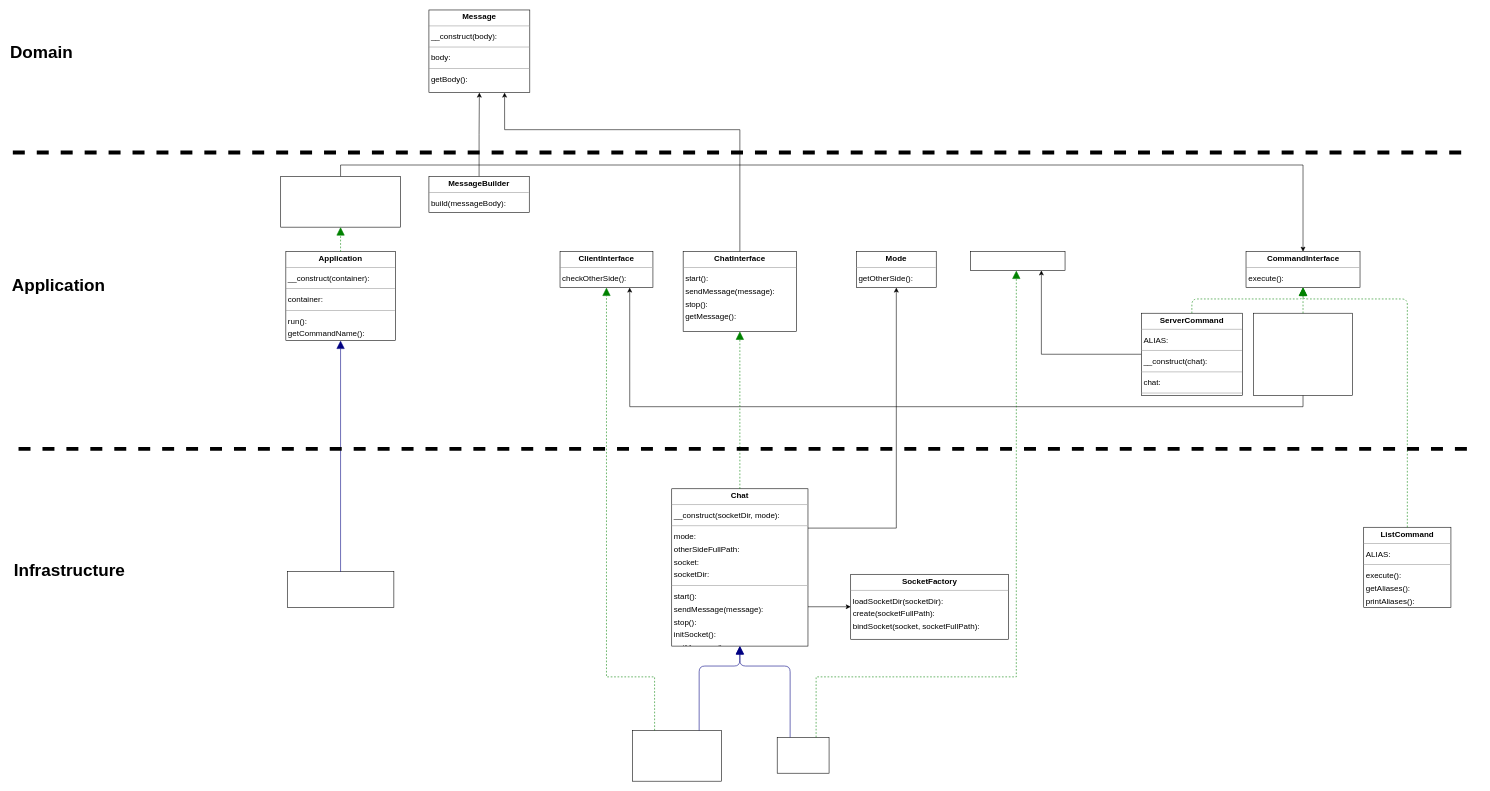
Image size: 1490x791. Some labels were removed from this diagram. Here are the shapes that lost their labels. From the top down, the centre of each, then its label:
pixel 340 201: ApplicationInterface run(): getCommand():
pixel 1017 260: ServerInterface
pixel 1302 354: ClientCommand ALIAS: __construct(chat): chat: execute():
pixel 340 589: ConsoleApp getCommandName():
pixel 676 755: Client start(): checkOtherSide():
pixel 803 755: Server start():
